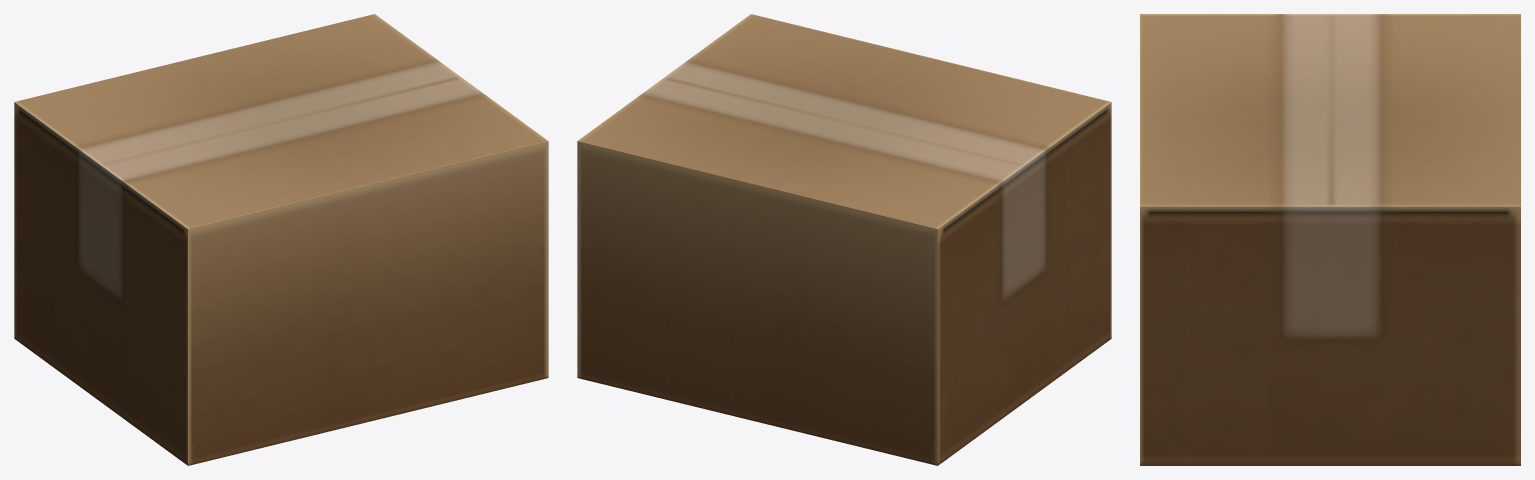
Rendered from TianZhuJiaoTang_01_zhixiang_01.FBX.
3 views of the same model, side by side, from view 1: azimuth 30°, elevation 25°; view 2: azimuth 150°, elevation 25°; view 3: azimuth 270°, elevation 25° (orthographic). The views are drawn at different scales.
Visible parts, largest first — view 1: TianZhuJiaoTang_01_zhixiang_01; view 2: TianZhuJiaoTang_01_zhixiang_01; view 3: TianZhuJiaoTang_01_zhixiang_01.
Part boxes in pixels (box(x1,y1,x2,y2)): TianZhuJiaoTang_01_zhixiang_01: box(14, 14, 548, 465); TianZhuJiaoTang_01_zhixiang_01: box(577, 14, 1111, 465); TianZhuJiaoTang_01_zhixiang_01: box(1140, 14, 1520, 465).
Bounding box in the file's own units: 194 × 122 × 162.
